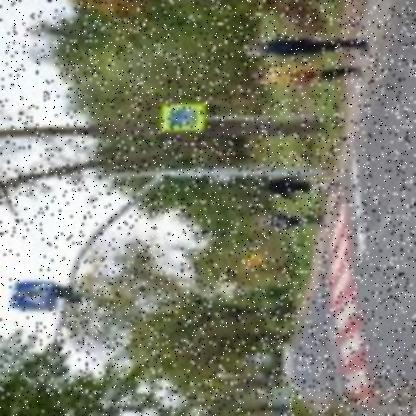Pedestrian Crossing: (11, 280, 57, 308), (167, 107, 201, 126)
